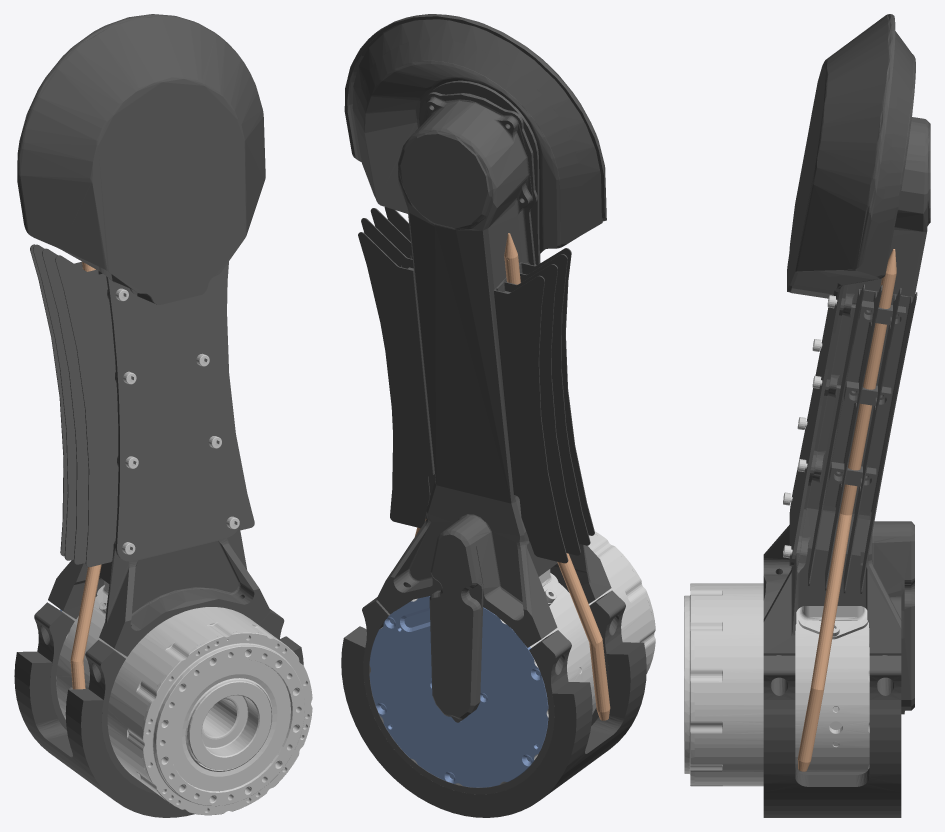
Rendered from anymal_thigh_r.dae.
The picture shows the model from 3 angles, left to right: view 1: azimuth 30°, elevation 25°; view 2: azimuth 150°, elevation 25°; view 3: azimuth 270°, elevation 25°; orthographic projection. The views are drawn at different scales.
Parts seen in each view (by area): view 1: _42196_00-ASM_ANYmal_thigh_left_EDI_002, _42196_00-ASM_ANYmal_thigh_left_EDI_009, _42196_00-ASM_ANYmal_thigh_left_EDI_001, _42196_00-ASM_ANYmal_thigh_left_EDI_004, _42196_00-ASM_ANYmal_thigh_left_EDI_003, _42196_00-ASM_ANYmal_thigh_left_EDI_006, _42196_00-ASM_ANYmal_thigh_left_EDI_007, _42196_00-ASM_ANYmal_thigh_left_EDI_005, _42196_00-ASM_ANYmal_thigh_left_EDI_012; view 2: _42196_00-ASM_ANYmal_thigh_left_EDI_003, _42196_00-ASM_ANYmal_thigh_left_EDI_004, _42196_00-ASM_ANYmal_thigh_left_EDI_002, _42196_00-ASM_ANYmal_thigh_left_EDI_009, _42196_00-ASM_ANYmal_thigh_left_EDI_006, _42196_00-ASM_ANYmal_thigh_left_EDI_007, _42196_00-ASM_ANYmal_thigh_left_EDI_005, _42196_00-ASM_ANYmal_thigh_left_EDI_001; view 3: _42196_00-ASM_ANYmal_thigh_left_EDI_002, _42196_00-ASM_ANYmal_thigh_left_EDI_009, _42196_00-ASM_ANYmal_thigh_left_EDI_003, _42196_00-ASM_ANYmal_thigh_left_EDI_004, _42196_00-ASM_ANYmal_thigh_left_EDI_006, _42196_00-ASM_ANYmal_thigh_left_EDI_005, _42196_00-ASM_ANYmal_thigh_left_EDI_007, _42196_00-ASM_ANYmal_thigh_left_EDI_001, _42196_00-ASM_ANYmal_thigh_left_EDI_008, _42196_00-ASM_ANYmal_thigh_left_EDI_012.
Boxes of the visible parts, x1,y1,x2,y2 form: _42196_00-ASM_ANYmal_thigh_left_EDI_002: (17, 14, 265, 304); _42196_00-ASM_ANYmal_thigh_left_EDI_009: (56, 596, 312, 815); _42196_00-ASM_ANYmal_thigh_left_EDI_001: (106, 276, 240, 561); _42196_00-ASM_ANYmal_thigh_left_EDI_004: (30, 244, 254, 567); _42196_00-ASM_ANYmal_thigh_left_EDI_003: (48, 289, 270, 656); _42196_00-ASM_ANYmal_thigh_left_EDI_006: (14, 636, 303, 817); _42196_00-ASM_ANYmal_thigh_left_EDI_007: (34, 602, 284, 793); _42196_00-ASM_ANYmal_thigh_left_EDI_005: (70, 262, 101, 689); _42196_00-ASM_ANYmal_thigh_left_EDI_012: (115, 288, 239, 554); _42196_00-ASM_ANYmal_thigh_left_EDI_003: (376, 92, 611, 722); _42196_00-ASM_ANYmal_thigh_left_EDI_004: (358, 207, 594, 563); _42196_00-ASM_ANYmal_thigh_left_EDI_002: (344, 14, 606, 253); _42196_00-ASM_ANYmal_thigh_left_EDI_009: (369, 531, 655, 787); _42196_00-ASM_ANYmal_thigh_left_EDI_006: (341, 626, 646, 817); _42196_00-ASM_ANYmal_thigh_left_EDI_007: (362, 590, 625, 794); _42196_00-ASM_ANYmal_thigh_left_EDI_005: (415, 233, 610, 720); _42196_00-ASM_ANYmal_thigh_left_EDI_001: (419, 80, 540, 265); _42196_00-ASM_ANYmal_thigh_left_EDI_002: (787, 14, 915, 298); _42196_00-ASM_ANYmal_thigh_left_EDI_009: (684, 583, 869, 786); _42196_00-ASM_ANYmal_thigh_left_EDI_003: (763, 117, 930, 714); _42196_00-ASM_ANYmal_thigh_left_EDI_004: (808, 284, 917, 593); _42196_00-ASM_ANYmal_thigh_left_EDI_006: (763, 709, 901, 817); _42196_00-ASM_ANYmal_thigh_left_EDI_005: (797, 249, 896, 771); _42196_00-ASM_ANYmal_thigh_left_EDI_007: (763, 655, 901, 709); _42196_00-ASM_ANYmal_thigh_left_EDI_001: (789, 285, 844, 566); _42196_00-ASM_ANYmal_thigh_left_EDI_008: (798, 606, 868, 639); _42196_00-ASM_ANYmal_thigh_left_EDI_012: (783, 295, 837, 558).
Bounding box in the file's own units: 130 × 109 × 380.
